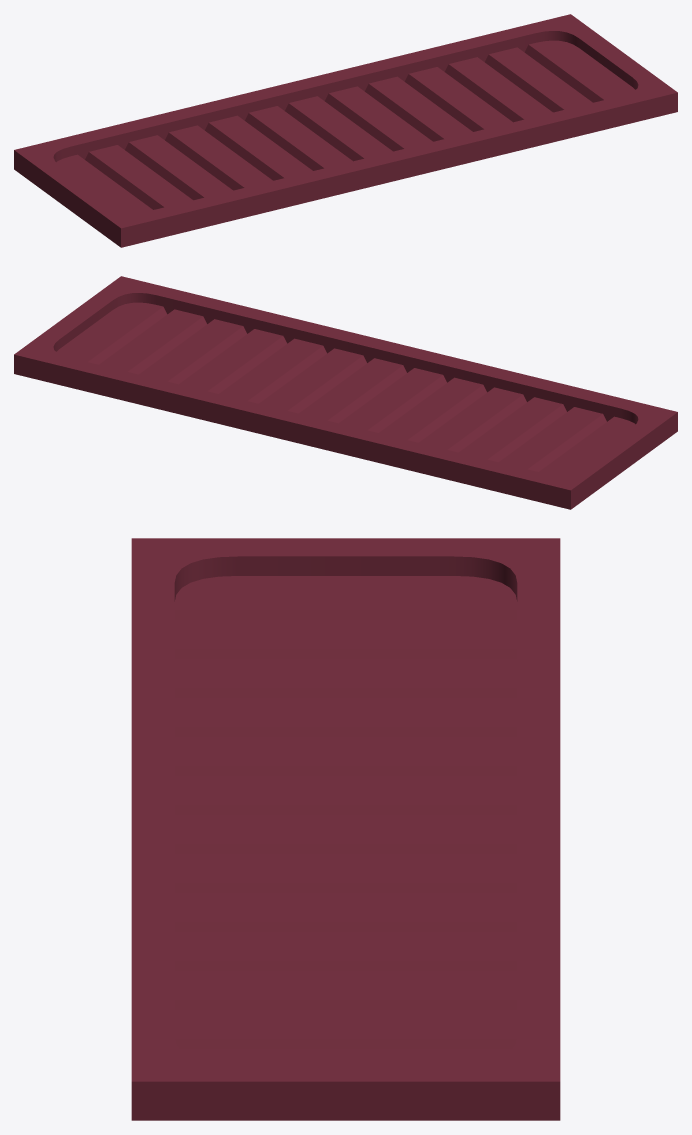
File: Floor_B_3x1m_B.FBX
3 views of the same model, one above another, from view 1: azimuth 30°, elevation 25°; view 2: azimuth 150°, elevation 25°; view 3: azimuth 270°, elevation 25° (orthographic). The views are drawn at different scales.
Parts seen in each view (by area): view 1: Floor_B_3x1m_B; view 2: Floor_B_3x1m_B; view 3: Floor_B_3x1m_B.
Part boxes in pixels (x1,y1,x2,y2): Floor_B_3x1m_B: [14, 14, 677, 247]; Floor_B_3x1m_B: [14, 276, 677, 509]; Floor_B_3x1m_B: [131, 538, 560, 1120].
Bounding box in the file's own units: 300 × 10 × 100.
